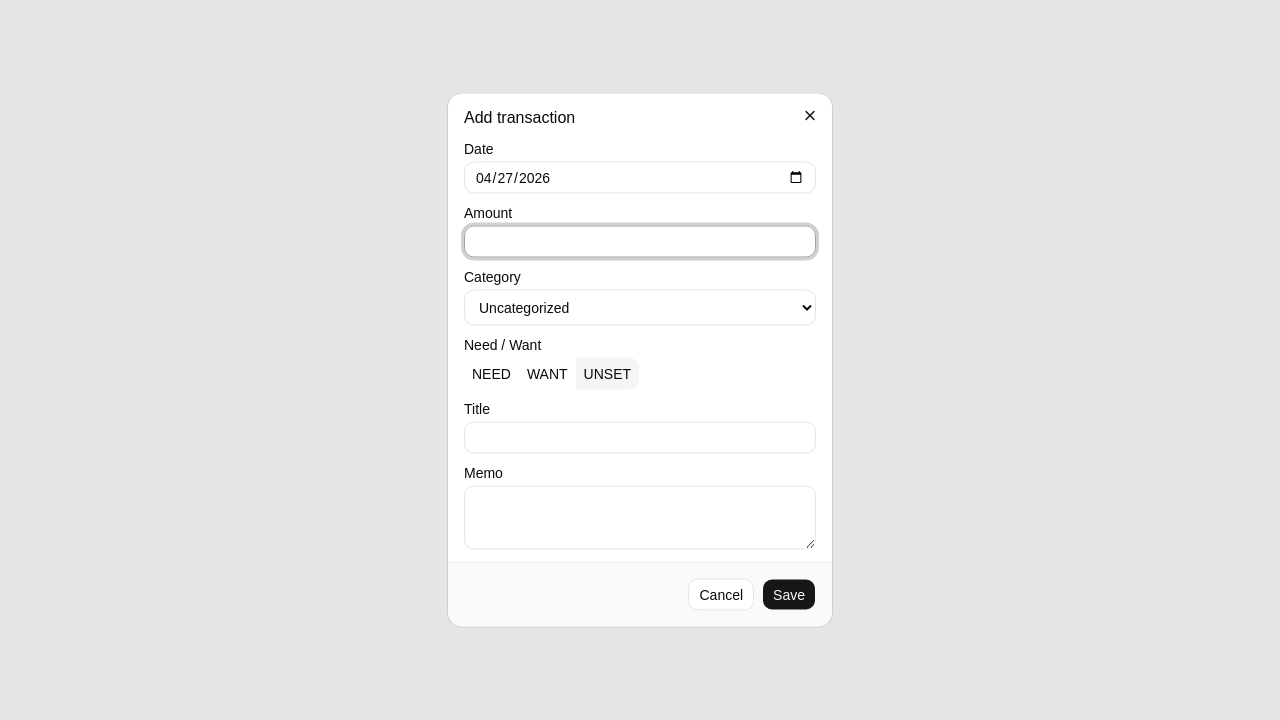
Test: TransactionFormModal › shows a validation error when amount has too many decimal places for the currency
Type "1.234" into the field labelled "Amount" at {"x": 640, "y": 242}, box x1=464 y1=226 x2=816 y2=258
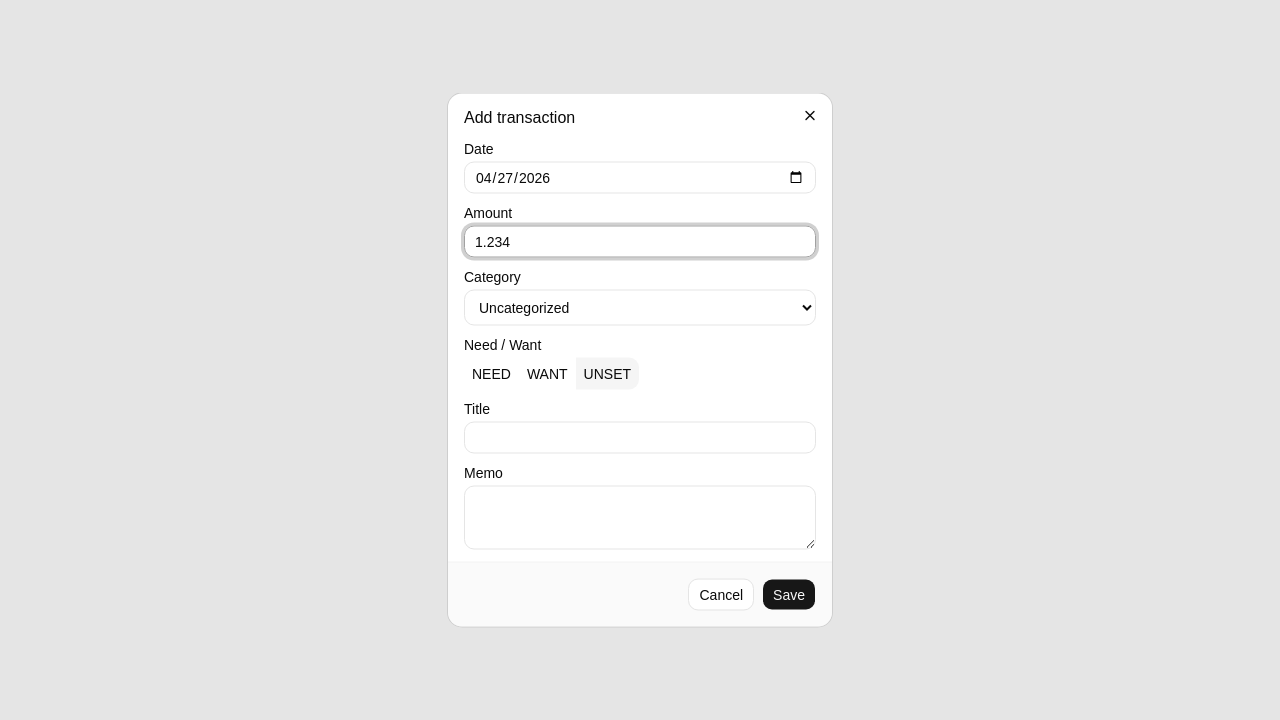
Click the button "Save" at {"x": 789, "y": 594}, box x1=762 y1=578 x2=816 y2=610
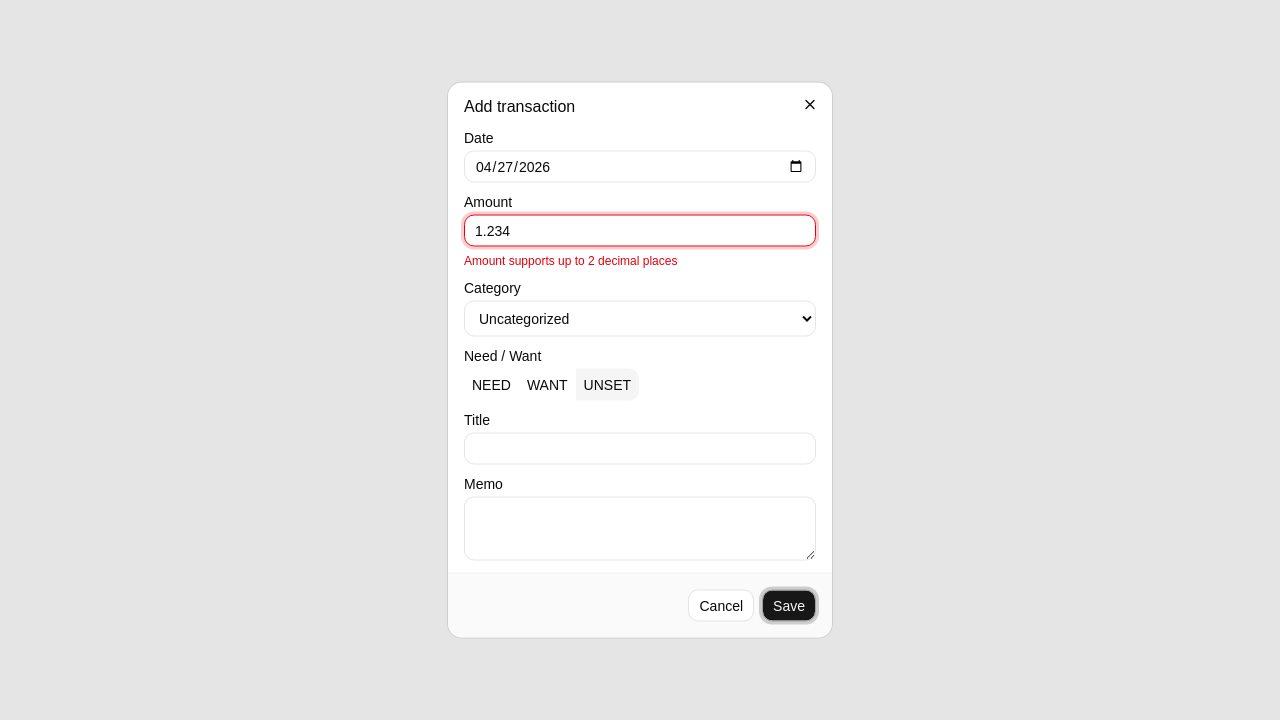
expect the text "Amount supports up to 2 decimal places" is shown: met, box x1=464 y1=254 x2=678 y2=268
